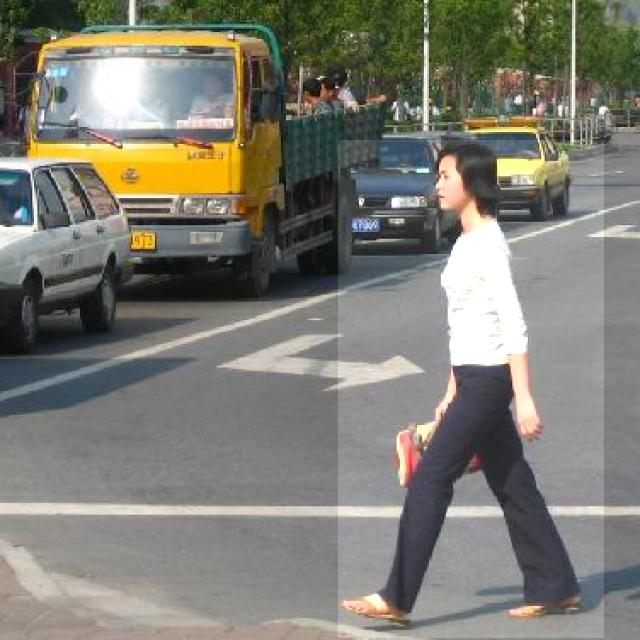with scooter: (338, 140, 604, 638)
